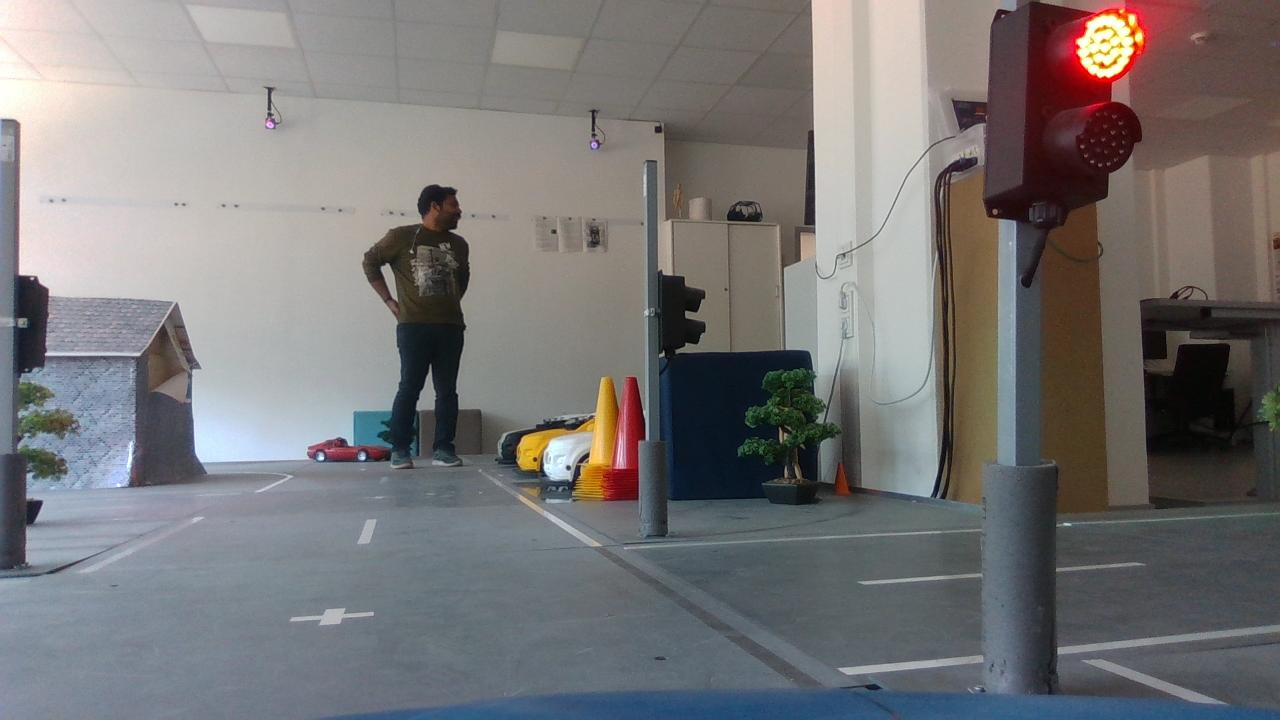traffic_light_red: (975, 1, 1157, 257)
